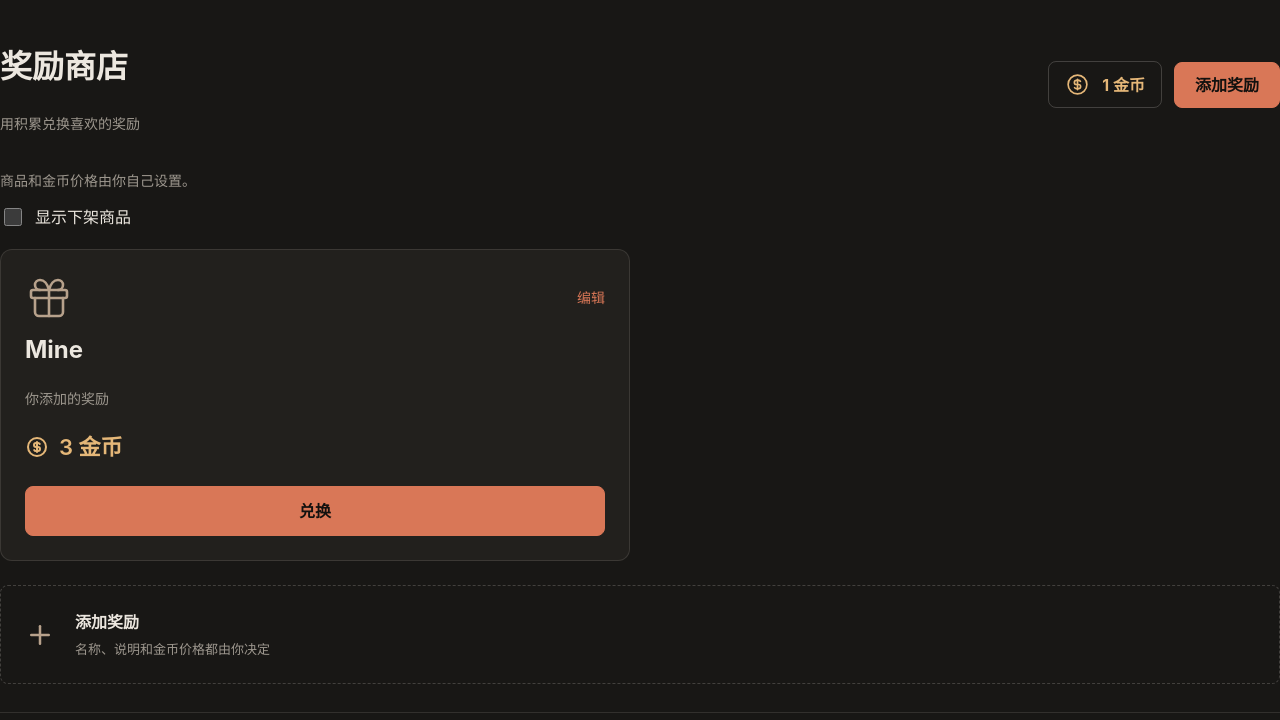
does not permit overspending
Click the button "兑换": (315, 511) [25, 486, 605, 536]
(page scrolled)
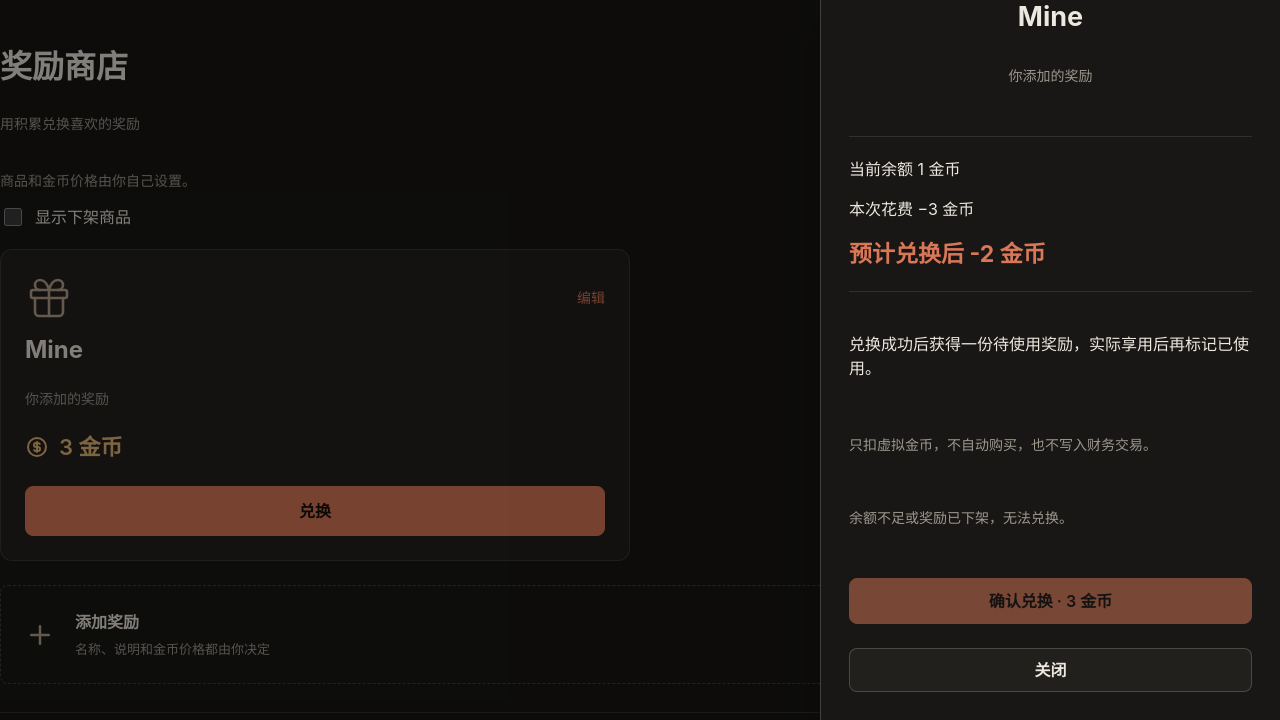
Now the button "确认兑换 · 3 金币" is disabled, box [849, 578, 1252, 624]
